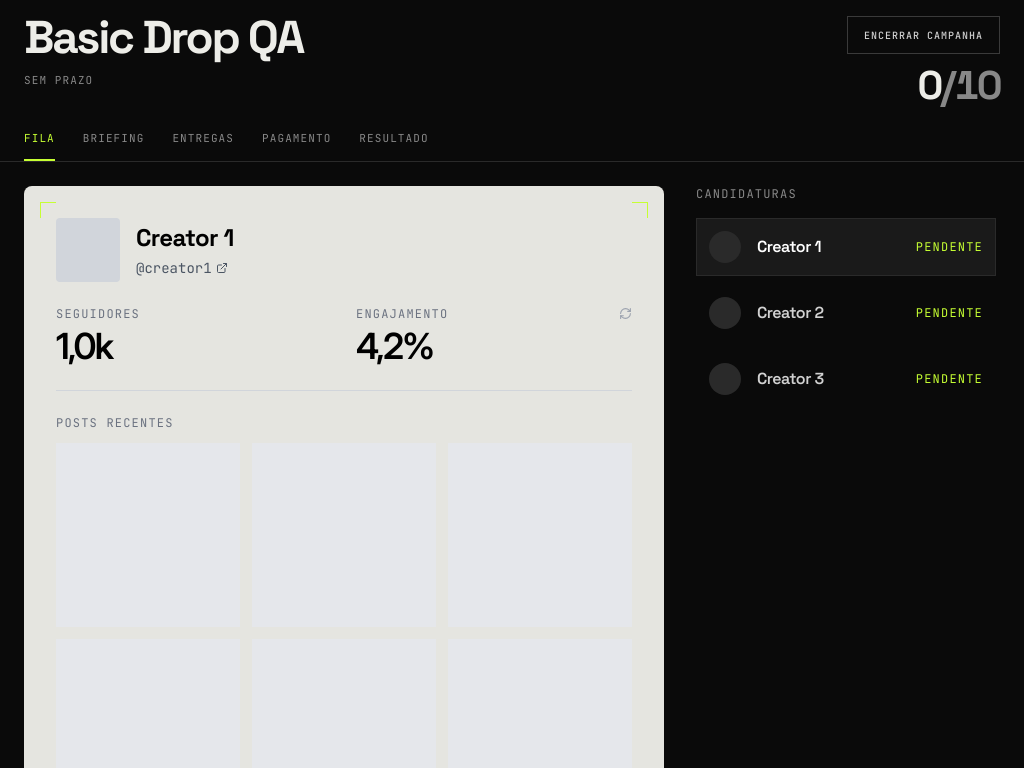
Scenario: CampaignDetailPage — aba Fila (pipeline + placa) › clicar numa linha da Pipeline troca quem aparece na placa
Click the button "Creator 2 Pendente" at (725, 312), box [696, 284, 996, 342]
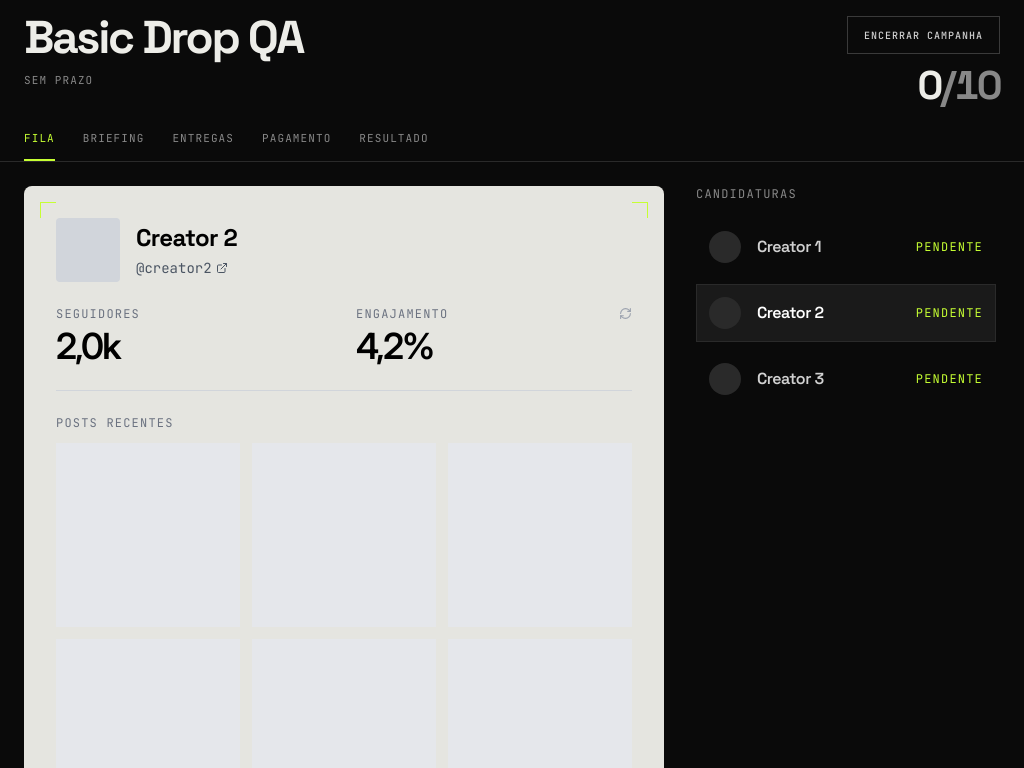
Check: the heading "Creator 2" is shown, box [136, 222, 237, 254]
